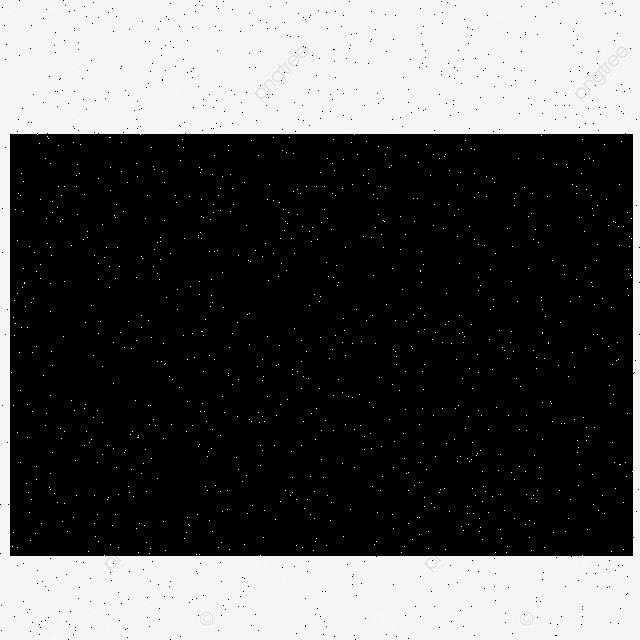Thukpa_Noodles: (10, 134, 633, 556), (13, 158, 631, 553)
